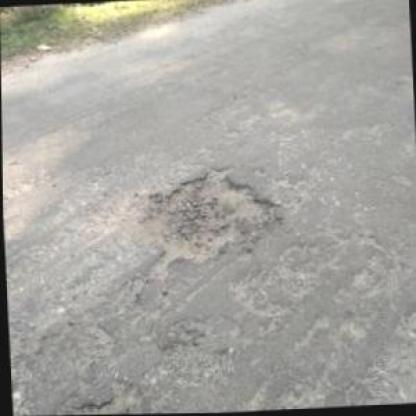pothole: (124, 162, 286, 269), (54, 381, 150, 415)
